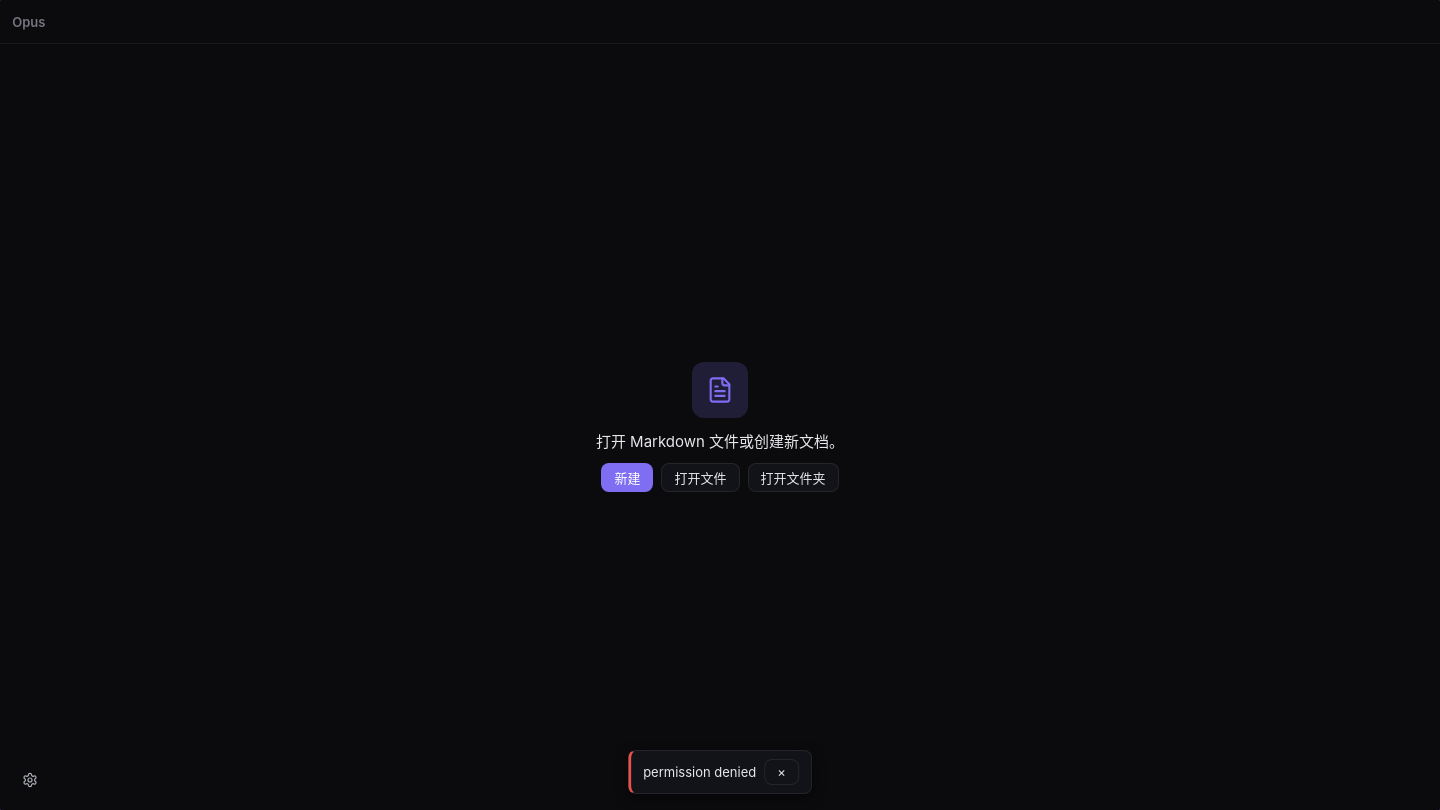
Test: App › surfaces and acknowledges production document-picker errors in the shell
Expected: the message shows "permission denied", [643,764,756,780]
Click the button named "关闭错误提示" at [782, 772], box [764,759,799,785]
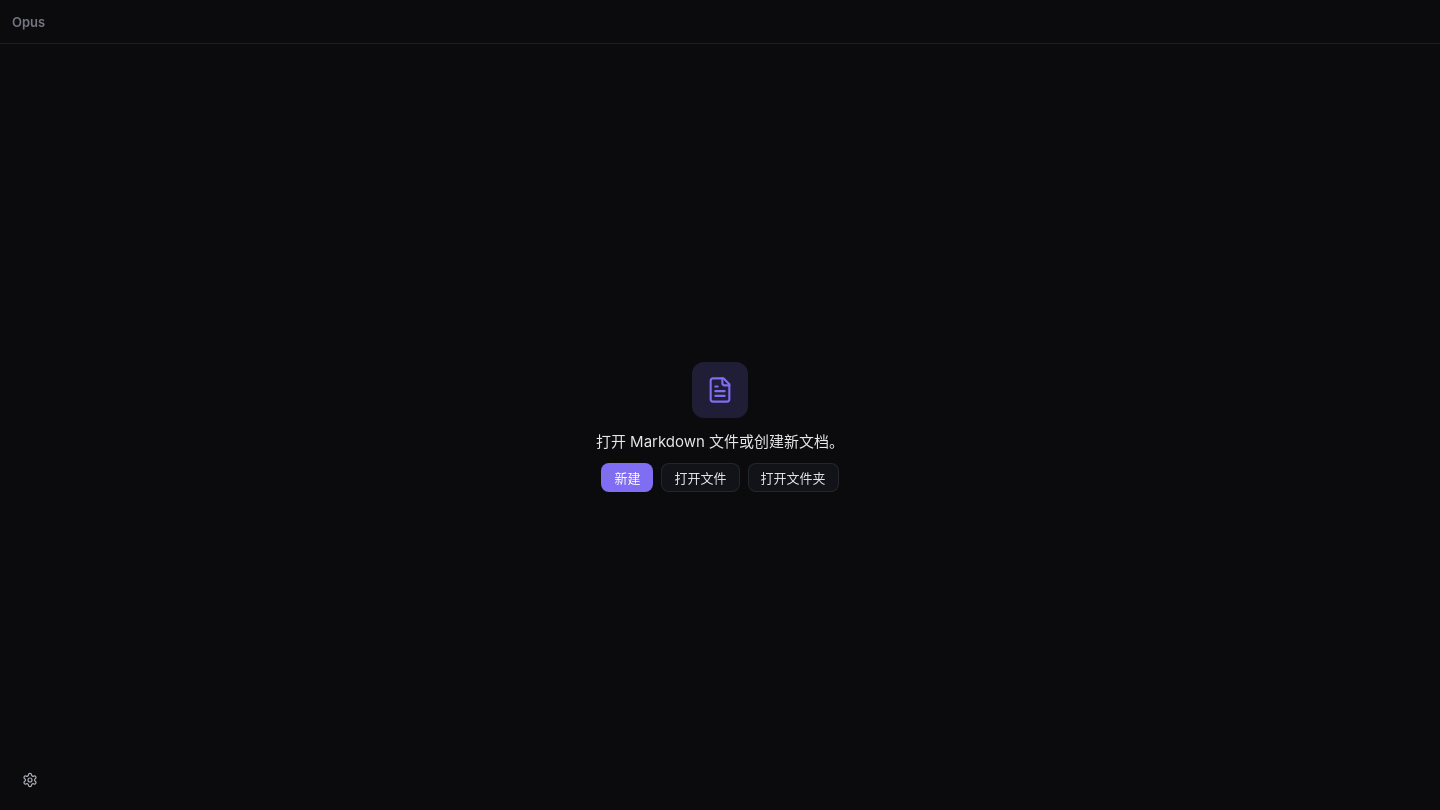
Expected: the message "permission denied ×" is gone
